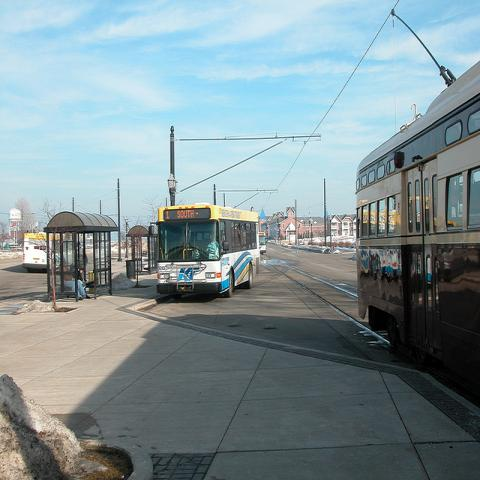bus: (356, 58, 480, 410), (157, 204, 261, 298), (260, 231, 267, 255)
